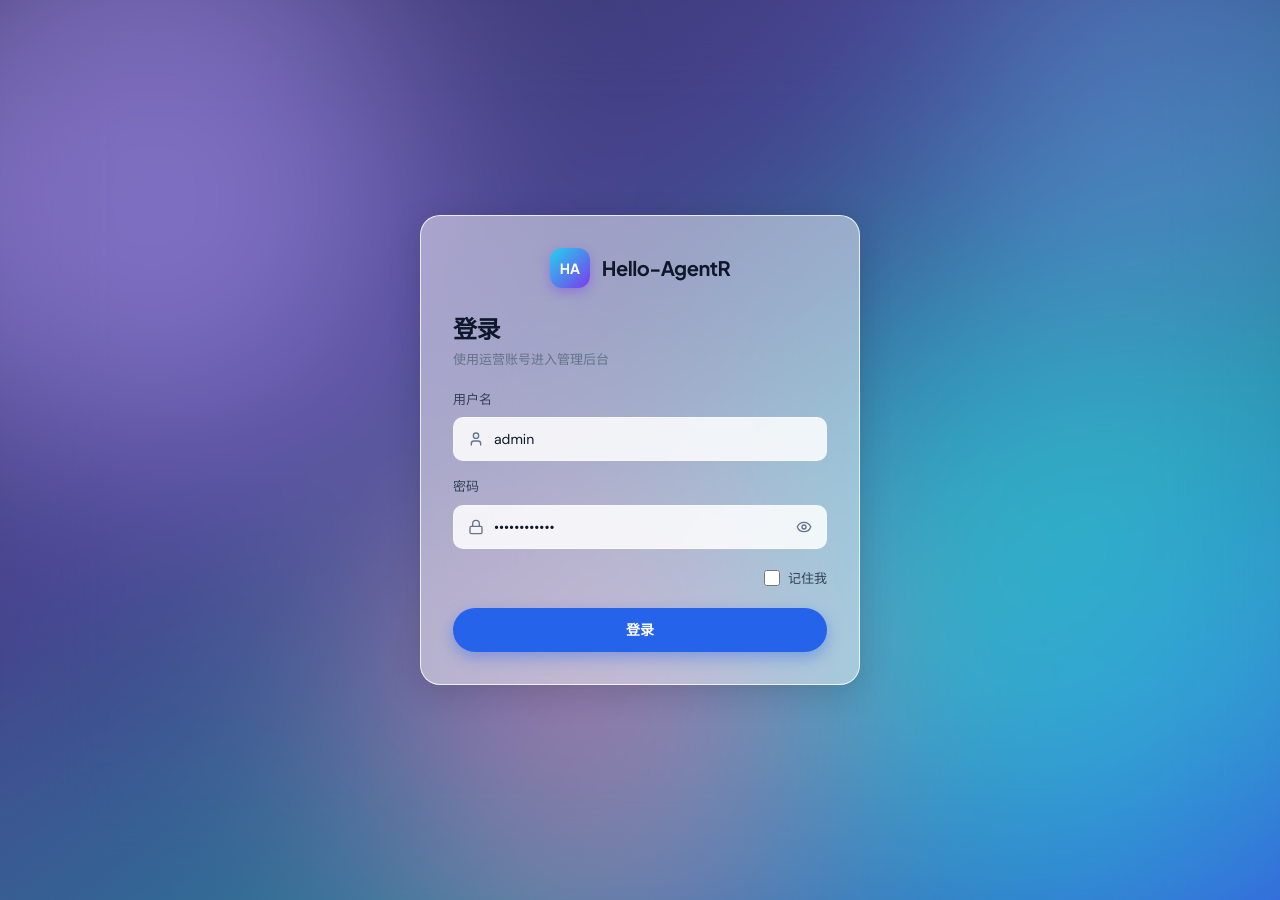
Test: LoginPage › shows field errors when required values are empty
Step 1. Clear the field labelled "用户名" → (653, 439), box [494, 418, 812, 460]
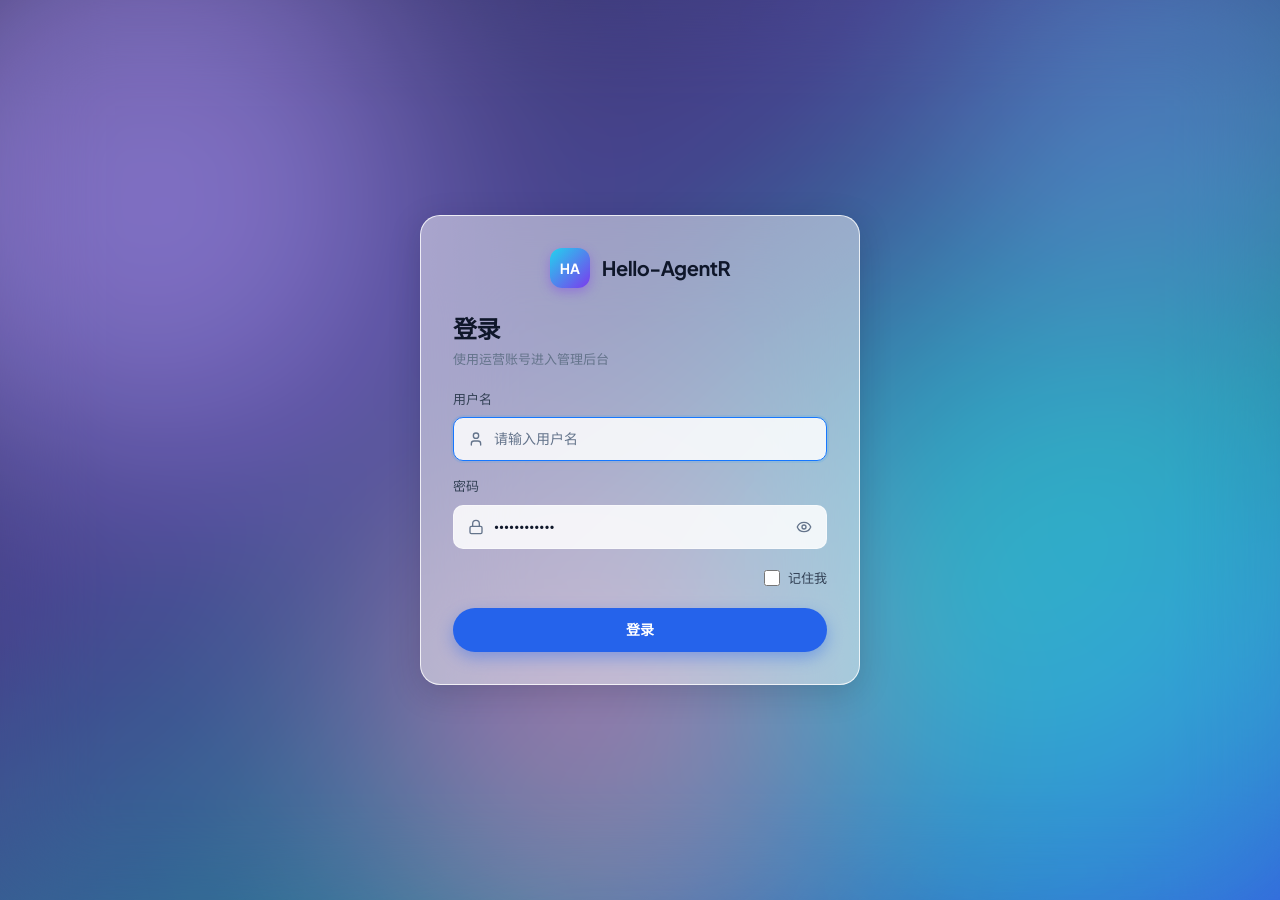
Step 2. Clear the password field labelled "密码" → (640, 526), box [494, 506, 786, 548]
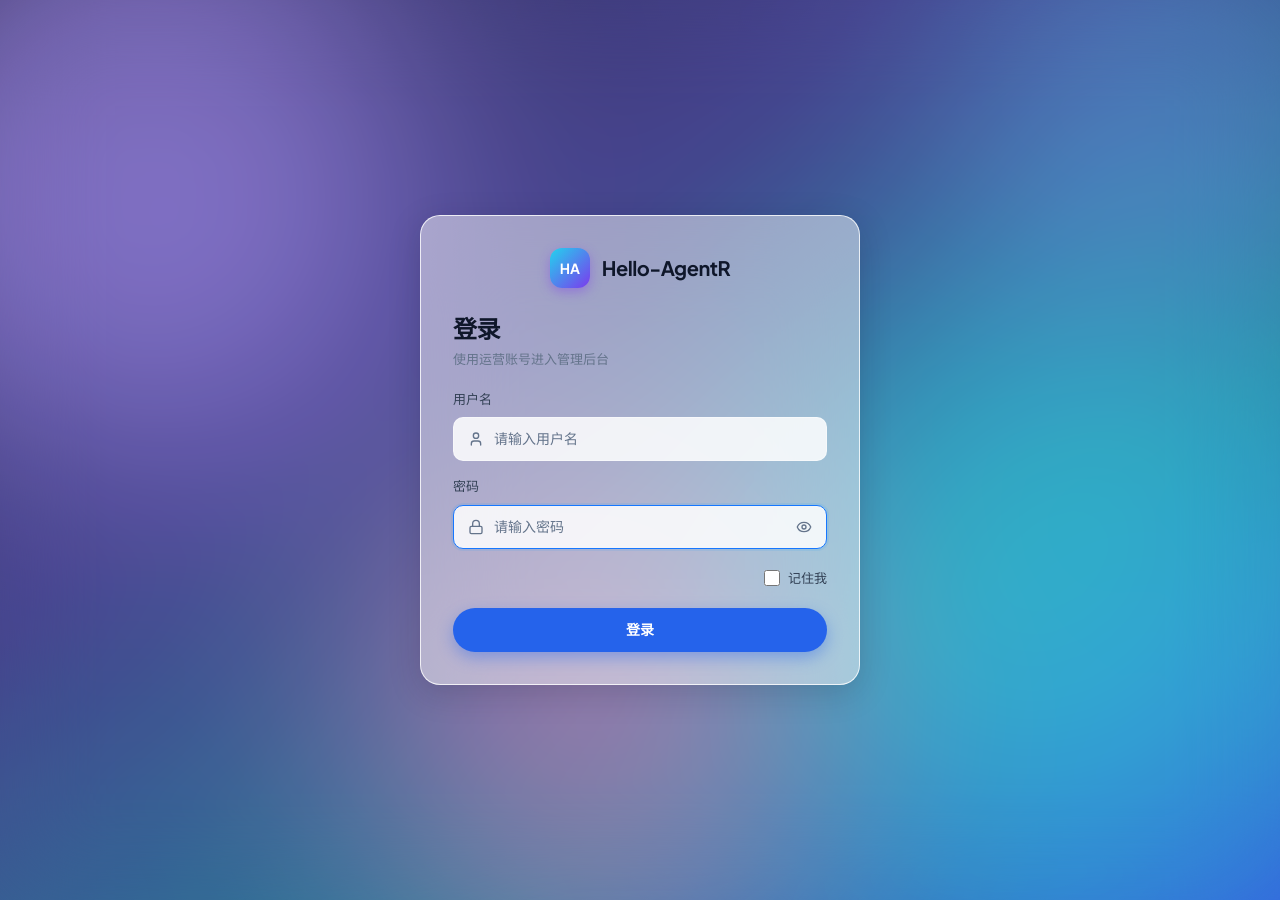
Step 3. Click the button "登录" → (640, 630), box [453, 608, 827, 652]
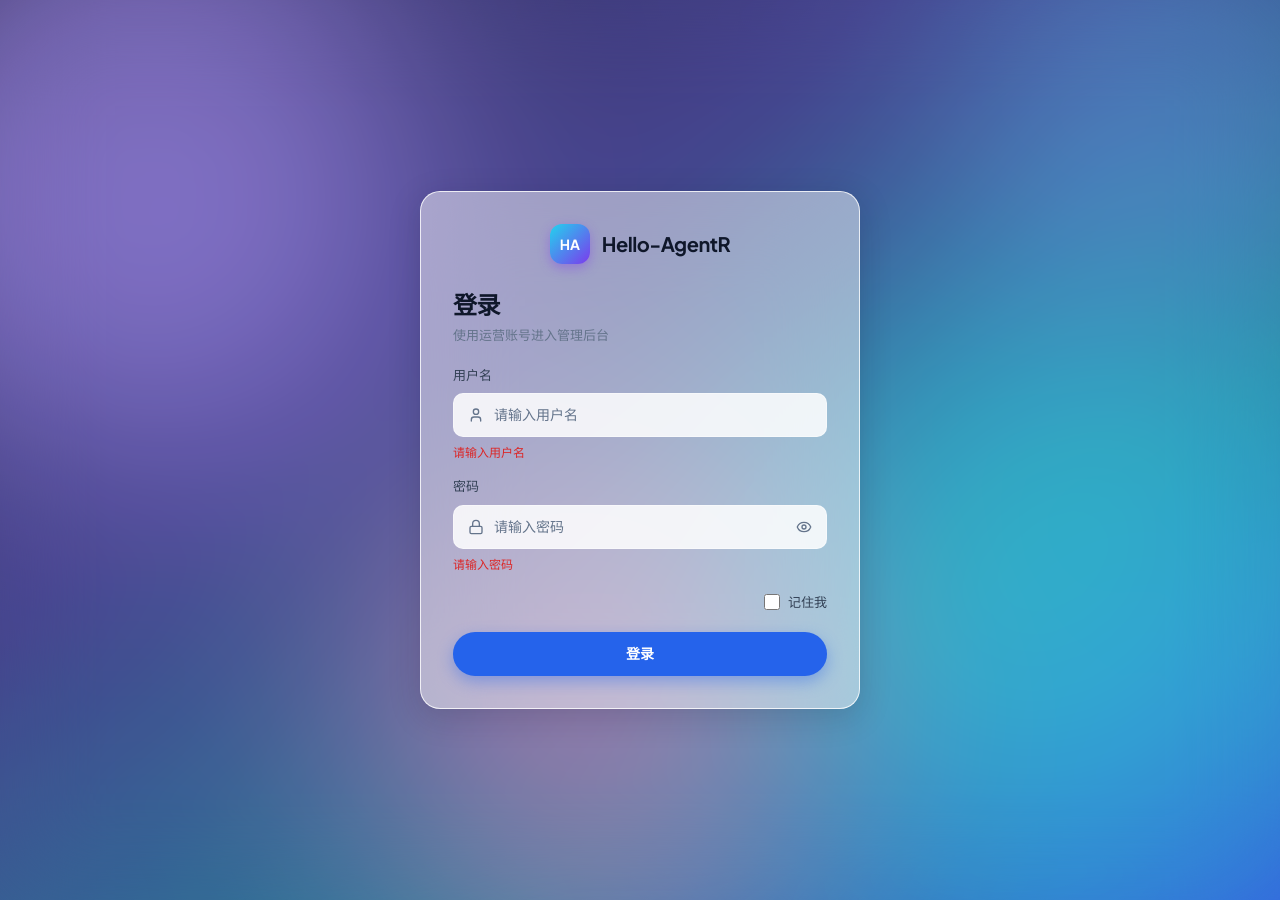
Expected: the text "请输入用户名" is shown, [453, 445, 525, 461]
Expected: the text "请输入密码" is shown, [453, 556, 513, 572]
